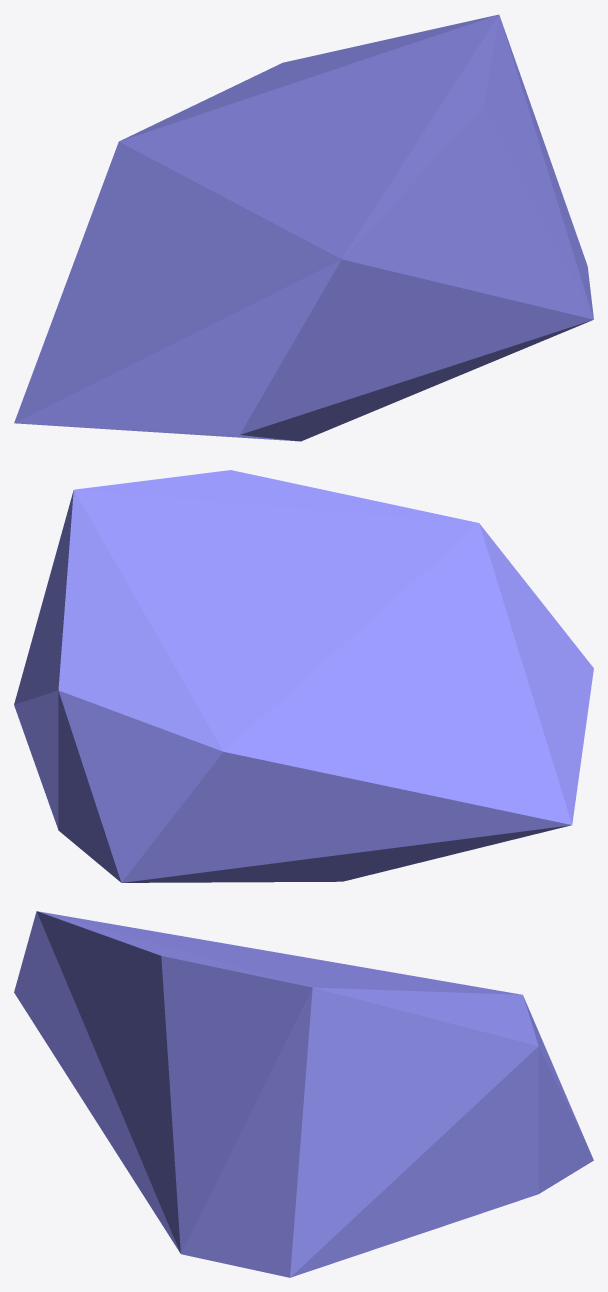
File: Rock_09_Collider_01.FBX
3 renders of one model, top to bottom at view 1: azimuth 30°, elevation 25°; view 2: azimuth 150°, elevation 25°; view 3: azimuth 270°, elevation 25°, orthographic. The views are drawn at different scales.
Parts seen in each view (by area): view 1: COLLIDER1; view 2: COLLIDER1; view 3: COLLIDER1.
Boxes of the visible parts, x1=… form: COLLIDER1: x1=14, y1=14, x2=593, y2=441; COLLIDER1: x1=14, y1=470, x2=593, y2=882; COLLIDER1: x1=14, y1=911, x2=593, y2=1277.
Size of the model in its own units: 28.95 by 14.51 by 25.37.
